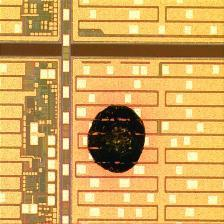PARTICLE: (81, 104, 153, 176)
